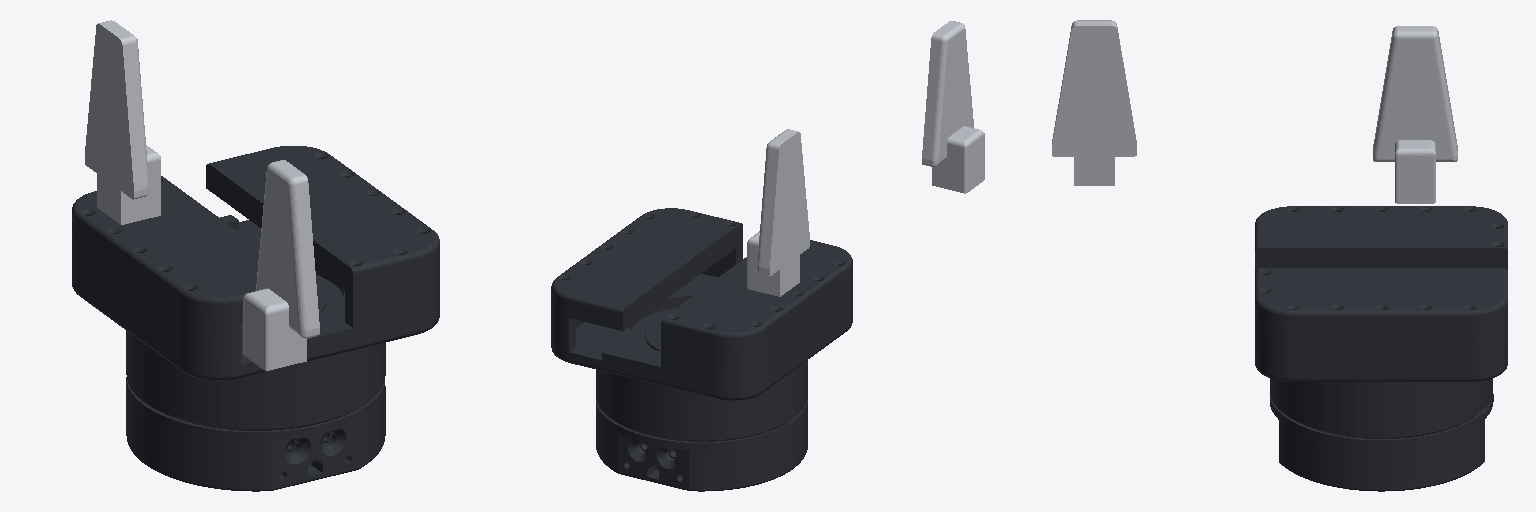
URDF robot description (aidin_gripper):
<?xml version="1.0"?>
<!--
═══════════════════════════════════════════════════════════════════════════
  aidin_gripper.urdf   —   RB-Y1 그리퍼와 동일 구조

  구조:  ee_right (베이스)
           ├─ ee_finger_r1   [fixed]
           └─ ee_finger_r2   [fixed]

  · 링키지(오프셋 슬라이더-크랭크) 링크 없음  → base에 전부 흡수
  · 핑거 조인트 fixed → kinematic chain에 그리퍼 자유도 없음
  · 그리퍼 개폐는 URDF 밖에서(별도 제어 채널) 처리
  · 핑거는 "완전 개방" 자세로 고정 → 충돌검사가 보수적으로 안전측

  단위: 길이 m / 질량 kg / 관성 kg·m²  (SW는 g·mm² → ÷1e9)

  ★n  = 반드시 본인 값으로 바꿔야 하는 곳 (아래 표 참조)
═══════════════════════════════════════════════════════════════════════════

  ┌─ 수정 항목 요약 ───────────────────────────────────────────────────┐
  │ ★1  robot name                                                    │
  │ ★2  메시 경로 (패키지명 / 파일명)                                 │
  │ ★3  메시 스케일  (SW STL은 mm → 0.001)                            │
  │ ★4  베이스 질량       ← SW 질량특성                               │
  │ ★5  베이스 무게중심   ← SW 질량특성 (CS_base 기준)                │
  │ ★6  베이스 관성텐서   ← SW 질량특성 ÷ 1e9                         │
  │ ★7  베이스 충돌 박스 (중심 / 크기)                                │
  │ ★8  핑거 Y 오프셋 = 개구폭 ÷ 2  (최대 개방 기준)                  │
  │ ★9  핑거 Z 오프셋 = 플랜지면 → 핑거 기준면 거리                   │
  │ ★10 핑거 질량 / 무게중심 / 관성텐서                               │
  │ ★11 핑거 충돌 박스 (중심 / 크기)                                  │
  │ ★12 TCP 위치 (플랜지면 → 파지점 Z)                                │
  │ ★13 색상 (선택)                                                   │
  └───────────────────────────────────────────────────────────────────┘
-->

<robot name="aidin_gripper">   <!-- ★1 -->

  <!-- ═══════════════ 재질 정의 (★13) ═══════════════ -->
  <material name="aidin_body">
    <color rgba="0.24 0.25 0.28 1.0"/>
  </material>
  <material name="aidin_finger">
    <color rgba="0.78 0.79 0.82 1.0"/>
  </material>


  <!-- ═══════════════════════════════════════════════════════════════
       BASE : ee_right
       원점 = ISO 9409-1-50-4-M6 플랜지 장착면 중심
       +Z   = 접근(approach) 방향,  ±Y = 핑거 개폐 방향
       ═══════════════════════════════════════════════════════════════ -->
  <link name="ee_right">

    <visual>
      <origin xyz="0 0 0" rpy="0 0 0"/>
      <geometry>
        <!-- ★2 ★3 -->
        <mesh filename="package://aidin_gripper_description/meshes/visual/gripper_base.stl"
              scale="0.001 0.001 0.001"/>
      </geometry>
      <material name="aidin_body"/>
    </visual>

    <!-- 충돌은 메시 재사용 금지. 프리미티브로 감싸는 것이 훨씬 안정적 -->
    <collision>
      <origin xyz="0 0 0.0400" rpy="0 0 0"/>          <!-- ★7 박스 중심 -->
      <geometry>
        <box size="0.0700 0.0900 0.0800"/>            <!-- ★7 X Y Z 크기 -->
      </geometry>
    </collision>

    <inertial>
      <origin xyz="0.0000 0.0000 0.0380" rpy="0 0 0"/>  <!-- ★5 무게중심 -->
      <mass value="0.5500"/>                            <!-- ★4 질량 -->
      <!-- ★6  SW 질량특성의 Lxx…Lzz 를 1e9로 나눈 값 -->
      <inertia ixx="4.20e-4" ixy="0.0"     ixz="0.0"
                             iyy="3.80e-4" iyz="0.0"
                                           izz="2.60e-4"/>
    </inertial>
  </link>


  <!-- ═══════════════════════════════════════════════════════════════
       FINGER 1  (+Y 쪽)
       ═══════════════════════════════════════════════════════════════ -->
  <joint name="ee_finger_r1_joint" type="fixed">
    <parent link="ee_right"/>
    <child  link="ee_finger_r1"/>
    <!-- ★8 Y = 개구폭/2   ★9 Z = 플랜지면 → 핑거 기준면 -->
    <origin xyz="0 0.0400 0.0800" rpy="0 0 0"/>
  </joint>

  <link name="ee_finger_r1">
    <visual>
      <origin xyz="0 0 0" rpy="0 0 0"/>
      <geometry>
        <!-- ★2 ★3 : 좌우 동일 형상이면 한 파일 재사용 -->
        <mesh filename="package://aidin_gripper_description/meshes/visual/gripper_finger.stl"
              scale="0.001 0.001 0.001"/>
      </geometry>
      <material name="aidin_finger"/>
    </visual>

    <collision>
      <origin xyz="0 0.0050 0.0250" rpy="0 0 0"/>     <!-- ★11 박스 중심 -->
      <geometry>
        <box size="0.0250 0.0120 0.0500"/>            <!-- ★11 X Y Z 크기 -->
      </geometry>
    </collision>

    <inertial>                                         <!-- ★10 -->
      <origin xyz="0 0.0040 0.0230" rpy="0 0 0"/>
      <mass value="0.0450"/>
      <inertia ixx="1.20e-5" ixy="0.0"     ixz="0.0"
                             iyy="1.30e-5" iyz="0.0"
                                           izz="3.10e-6"/>
    </inertial>
  </link>


  <!-- ═══════════════════════════════════════════════════════════════
       FINGER 2  (-Y 쪽)
       rpy Z=180° 로 뒤집어 동일 STL 재사용
       ═══════════════════════════════════════════════════════════════ -->
  <joint name="ee_finger_r2_joint" type="fixed">
    <parent link="ee_right"/>
    <child  link="ee_finger_r2"/>
    <!-- ★8 ★9 : finger_r1 과 Y 부호만 반대 -->
    <origin xyz="0 -0.0400 0.0800" rpy="0 0 3.14159265"/>
  </joint>

  <link name="ee_finger_r2">
    <visual>
      <origin xyz="0 0 0" rpy="0 0 0"/>
      <geometry>
        <mesh filename="package://aidin_gripper_description/meshes/visual/gripper_finger.stl"
              scale="0.001 0.001 0.001"/>
      </geometry>
      <material name="aidin_finger"/>
    </visual>

    <collision>
      <origin xyz="0 0.0050 0.0250" rpy="0 0 0"/>     <!-- ★11 -->
      <geometry>
        <box size="0.0250 0.0120 0.0500"/>
      </geometry>
    </collision>

    <inertial>                                         <!-- ★10 -->
      <origin xyz="0 0.0040 0.0230" rpy="0 0 0"/>
      <mass value="0.0450"/>
      <inertia ixx="1.20e-5" ixy="0.0"     ixz="0.0"
                             iyy="1.30e-5" iyz="0.0"
                                           izz="3.10e-6"/>
    </inertial>
  </link>


  <!-- ═══════════════════════════════════════════════════════════════
       TCP : 파지점. IK 타겟 프레임 (질량 없음)
       ═══════════════════════════════════════════════════════════════ -->
  <link name="ee_right_tcp"/>
  <joint name="ee_right_tcp_joint" type="fixed">
    <parent link="ee_right"/>
    <child  link="ee_right_tcp"/>
    <origin xyz="0 0 0.1350" rpy="0 0 0"/>            <!-- ★12 -->
  </joint>

</robot>


<!--
═══════════════════════════════════════════════════════════════════════════
 [A] RB-Y1 팔에 붙이기 — 상위 URDF/xacro 에 아래 조인트 추가
     <joint name="right_arm_to_gripper" type="fixed">
       <parent link="link_right_arm_6"/>
       <child  link="ee_right"/>
       <origin xyz="0 0 0" rpy="0 0 0"/>
     </joint>

 [B] 왼손용이 필요하면 이 파일을 복사해
     ee_right → ee_left,  _r1 → _l1,  _r2 → _l2  로 치환

 [C] 나중에 개폐 자유도를 살리려면
     ee_finger_r1_joint : type="fixed" → "prismatic"
       <axis xyz="0 1 0"/>
       <limit lower="-STROKE" upper="0" effort="..." velocity="..."/>
     ee_finger_r2_joint : 동일 + <mimic joint="ee_finger_r1_joint" multiplier="1.0"/>
     (origin 은 최대 개방 위치이므로 lower 가 음수 = 닫히는 방향)
═══════════════════════════════════════════════════════════════════════════
-->

--- Facts derived from the render (not from the file) ---
Views: 3 orthographic renders of the robot side by side, from view 1: azimuth 30°, elevation 25°; view 2: azimuth 150°, elevation 25°; view 3: azimuth 270°, elevation 25°.
Model aidin_gripper with 4 links and 3 joints (3 fixed), rooted at ee_right, posed every joint at zero.
Links seen in each view (by area): view 1: ee_right, ee_finger_r2, ee_finger_r1; view 2: ee_right, ee_finger_r2, ee_finger_r1; view 3: ee_right, ee_finger_r1, ee_finger_r2.
Boxes of the visible links, x1=… form: ee_right: x1=72, y1=146, x2=439, y2=491; ee_finger_r2: x1=243, y1=160, x2=319, y2=370; ee_finger_r1: x1=85, y1=20, x2=160, y2=224; ee_right: x1=551, y1=208, x2=852, y2=491; ee_finger_r2: x1=922, y1=21, x2=984, y2=193; ee_finger_r1: x1=747, y1=129, x2=809, y2=296; ee_right: x1=1255, y1=206, x2=1507, y2=491; ee_finger_r1: x1=1373, y1=26, x2=1457, y2=203; ee_finger_r2: x1=1052, y1=20, x2=1136, y2=185.
Bounding box of the posed robot: 0.1 × 0.155 × 0.14 m (x, y, z).
Meshes: 2 distinct files referenced, 3 mesh visuals loaded (2 binary STL).
